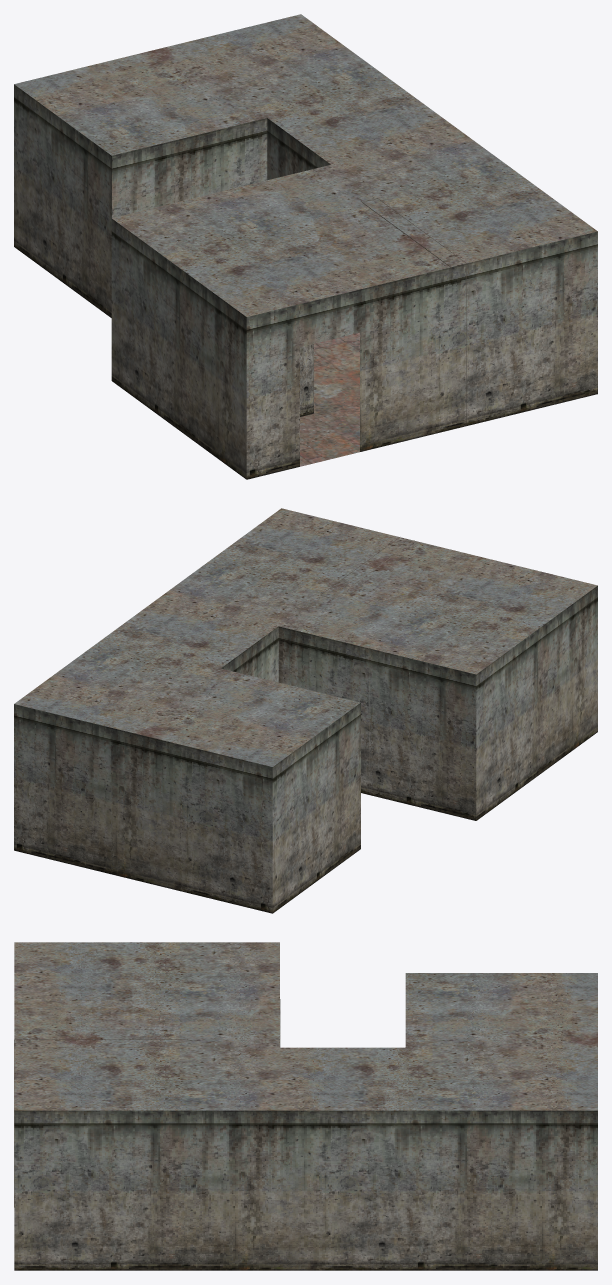
The model's file is _Room_6.FBX.
The picture shows the model from 3 angles, top to bottom: view 1: azimuth 30°, elevation 25°; view 2: azimuth 150°, elevation 25°; view 3: azimuth 270°, elevation 25°; orthographic projection. The views are drawn at different scales.
Visible parts, largest first — view 1: _Room_6; view 2: _Room_6; view 3: _Room_6.
Boxes of the visible parts, x1,y1,x2,y2 form: _Room_6: (14,14,597,479); _Room_6: (14,508,597,913); _Room_6: (14,942,597,1270).
Size of the model in its own units: 552 by 245 by 808.
Materials: 5 (5 with a texture image).
